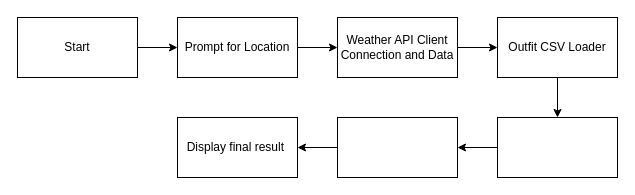
Image size: 635x195. Some labels were removed from this diagram. The centre of each missing label's shape, as x and y in pixels:
Data Parser to extract elements: the point at 557,147
Outfit Logic decision tree based on conditions: the point at 397,147
